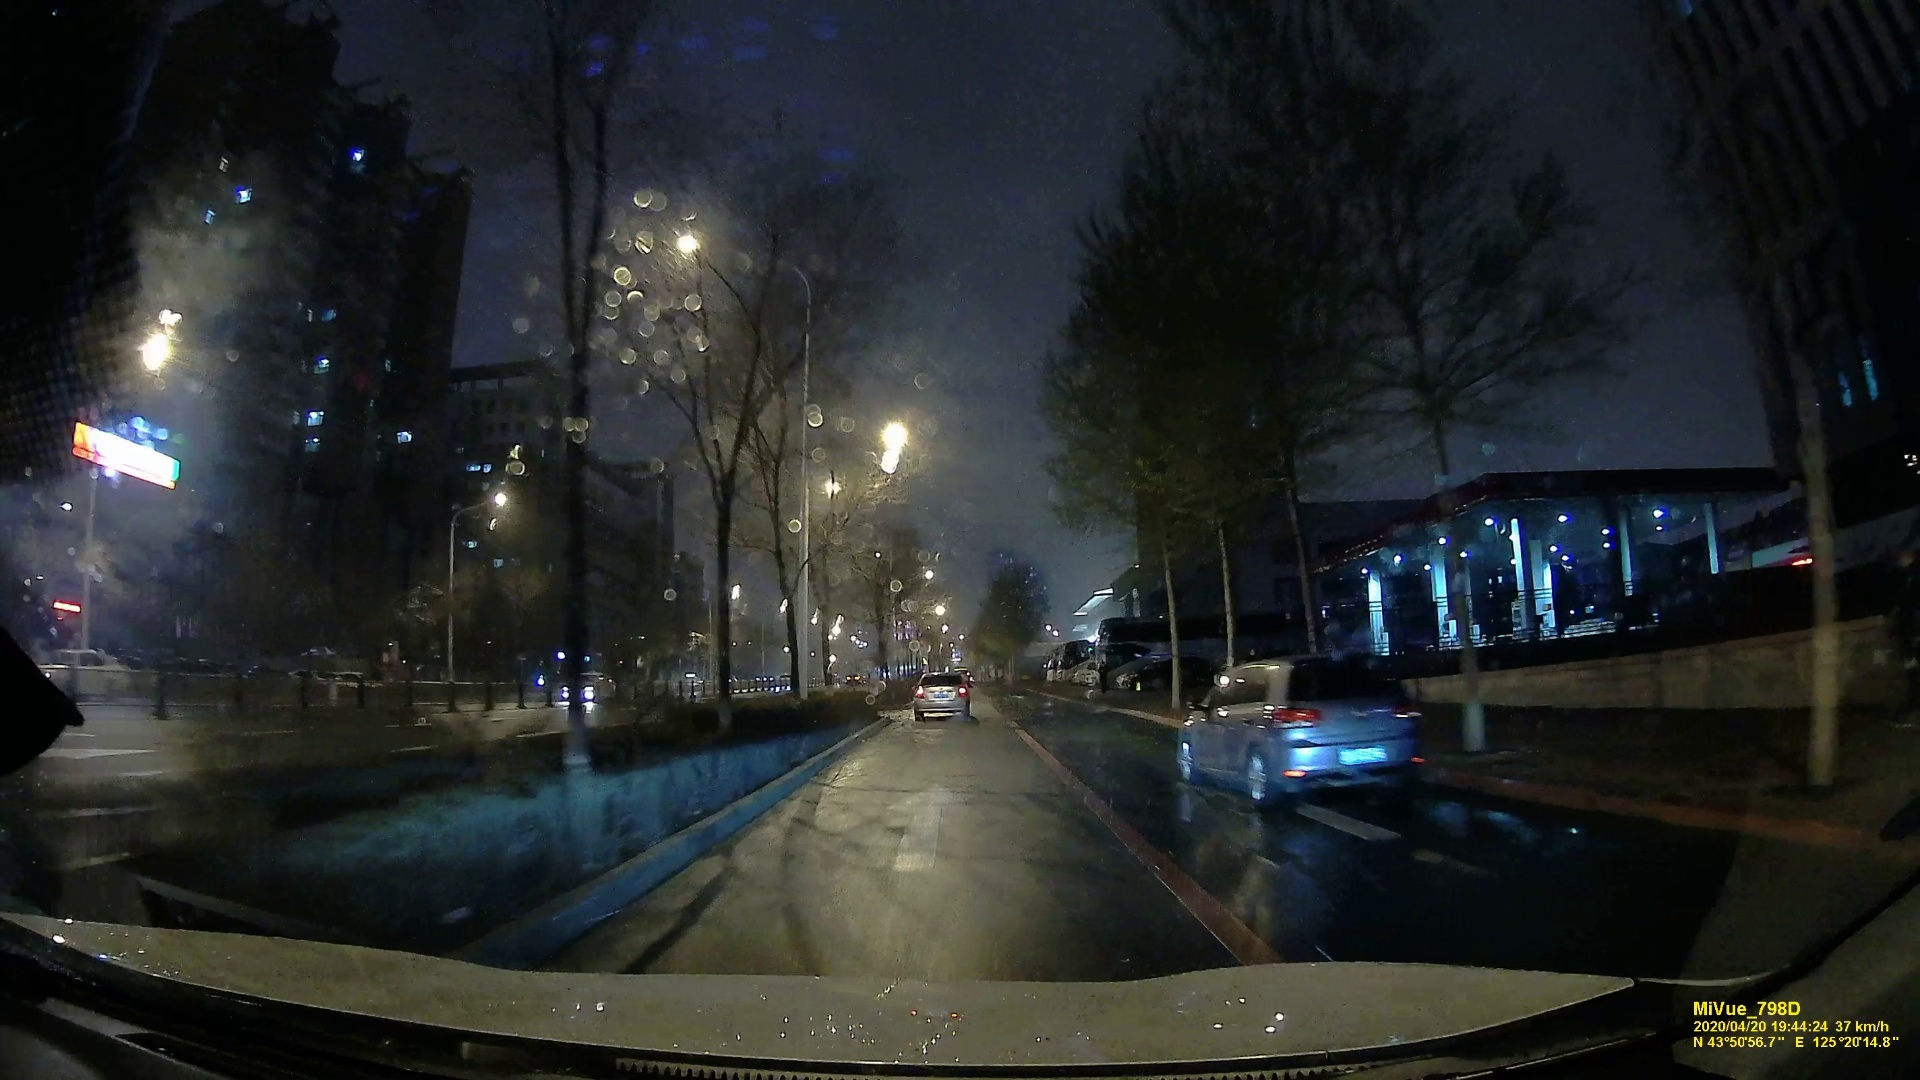vehicle: (1168, 651, 1428, 814), (910, 669, 976, 723)
